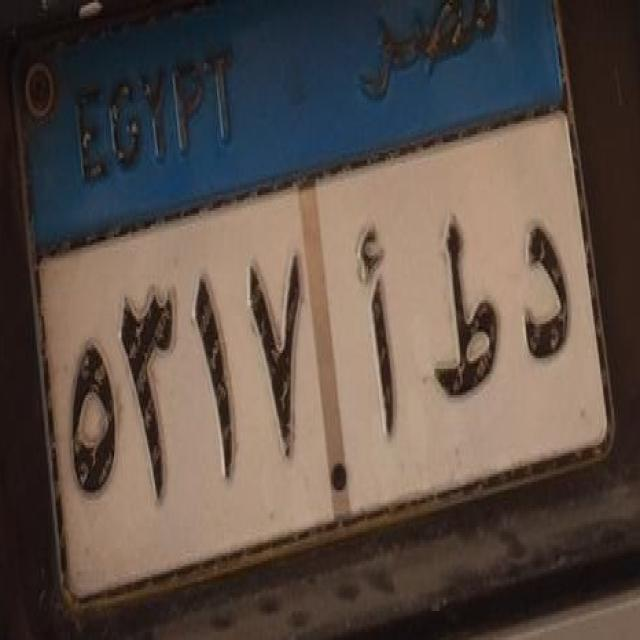1: (189, 261, 248, 497)
3: (118, 276, 191, 516)
5: (62, 338, 128, 504)
7: (246, 247, 308, 474)
Taa: (420, 209, 512, 412)
alef: (351, 214, 406, 451)
daal: (516, 201, 576, 377)
